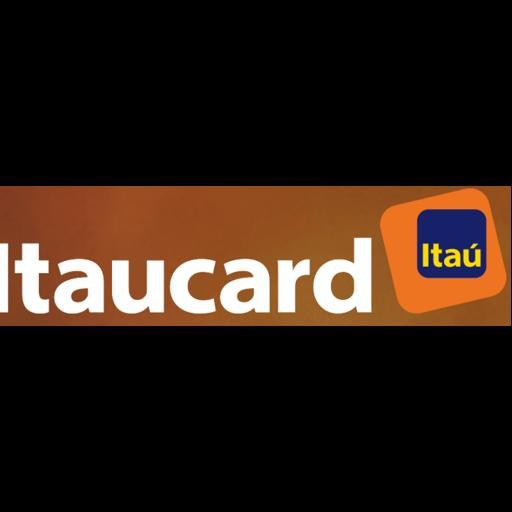Itau Unibanco S-A: (0, 186, 511, 326)
